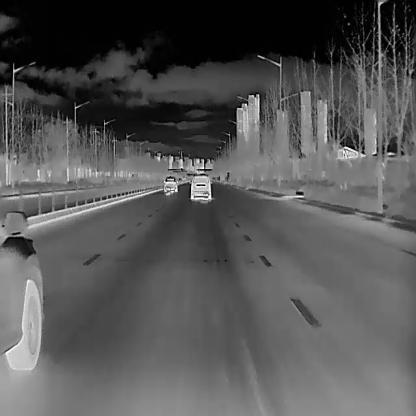car: (189, 173, 212, 200), (163, 174, 178, 192)
